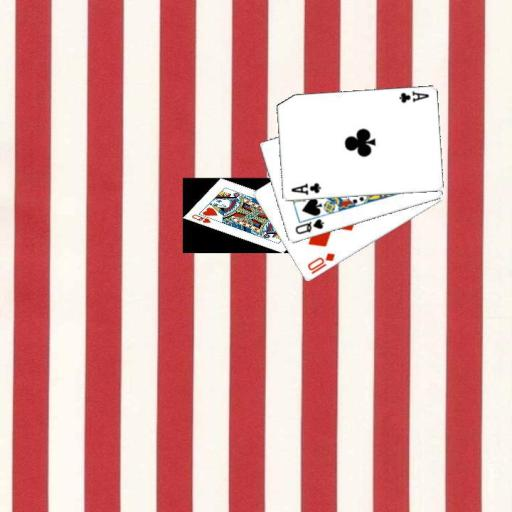10D: (305, 250, 337, 276)
AC: (396, 88, 431, 105), (288, 180, 322, 196)
QS: (292, 216, 326, 236)
